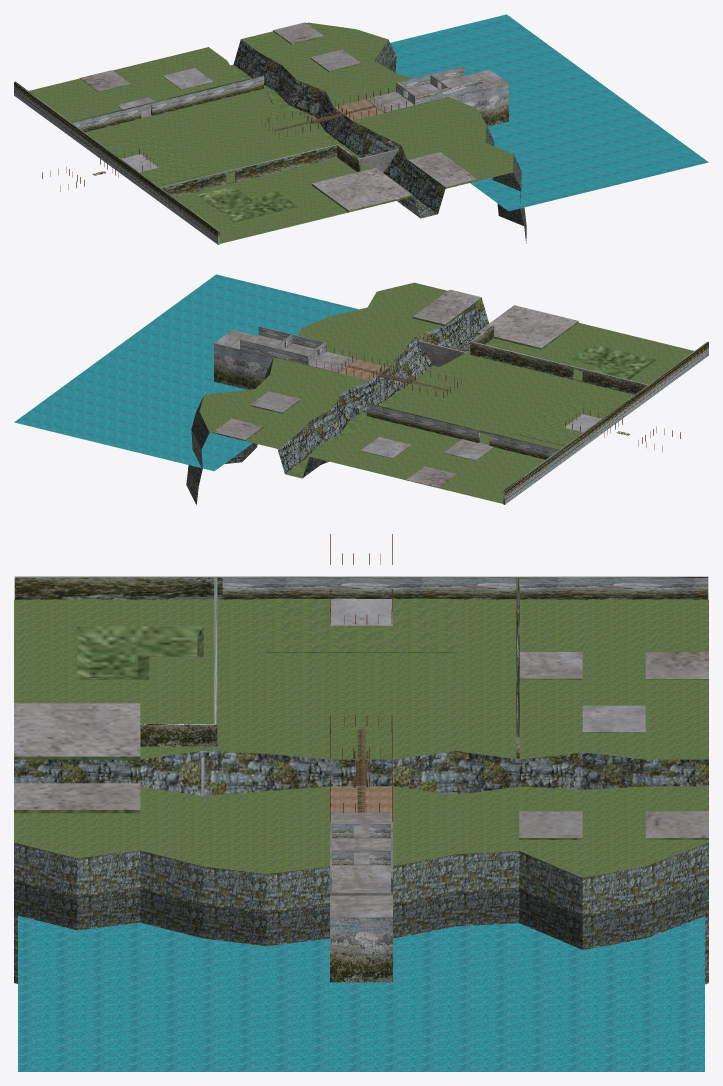
File: World.fbx
3 views of the same model, one above another, from view 1: azimuth 30°, elevation 25°; view 2: azimuth 150°, elevation 25°; view 3: azimuth 270°, elevation 25° (orthographic). The views are drawn at different scales.
Parts seen in each view (by area): view 1: World, Sea, LevelA, WallBack, Wall.001, Wall, Cube; view 2: World, Sea, LevelA, WallBack, Wall.001, Wall, Cube; view 3: World, Sea, WallBack, LevelA, Wall.001.
Part boxes in pixels (x1=…): World: x1=29, y1=22, x2=526, y2=243; Sea: x1=390, y1=14, x2=708, y2=211; LevelA: x1=396, y1=66, x2=508, y2=126; WallBack: x1=14, y1=81, x2=219, y2=244; Wall.001: x1=160, y1=144, x2=360, y2=197; Wall: x1=71, y1=75, x2=263, y2=132; Cube: x1=358, y1=149, x2=398, y2=172; World: x1=186, y1=282, x2=693, y2=504; Sea: x1=14, y1=274, x2=358, y2=471; LevelA: x1=214, y1=326, x2=326, y2=389; WallBack: x1=503, y1=341, x2=708, y2=504; Wall.001: x1=470, y1=325, x2=648, y2=394; Wall: x1=366, y1=403, x2=559, y2=459; Cube: x1=417, y1=340, x2=465, y2=366; World: x1=14, y1=599, x2=708, y2=984; Sea: x1=18, y1=915, x2=704, y2=1071; WallBack: x1=14, y1=576, x2=708, y2=599; LevelA: x1=330, y1=822, x2=392, y2=982; Wall.001: x1=140, y1=578, x2=217, y2=746.
Bounding box in the file's own units: 71861 × 11004 × 45782.
